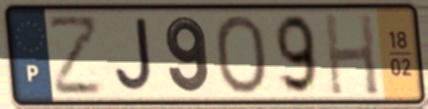9: (270, 12, 321, 98), (161, 13, 212, 97)
H: (321, 10, 382, 99)
J: (112, 15, 155, 95)
O: (212, 12, 271, 97)
Z: (46, 12, 106, 98)
